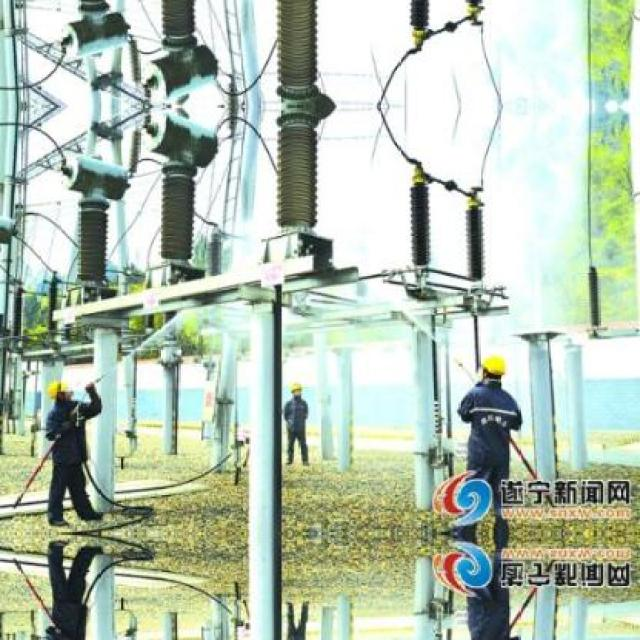helmet: (473, 351, 512, 385), (41, 376, 76, 399), (288, 377, 306, 399)
